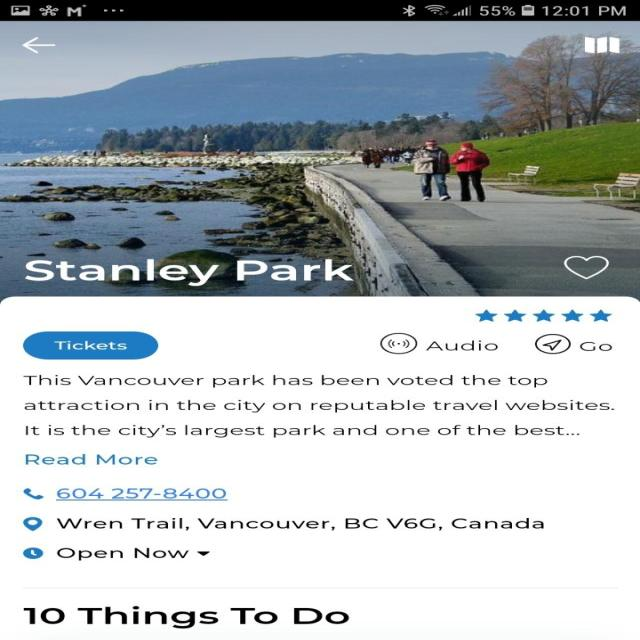Icon: (474, 308, 612, 322), (562, 256, 608, 279), (533, 333, 571, 354), (584, 37, 619, 54), (22, 38, 55, 53), (22, 517, 43, 531), (22, 547, 44, 559), (196, 551, 210, 555)
Image: (0, 21, 639, 297), (379, 333, 417, 354), (23, 488, 44, 498)
Text: (22, 374, 614, 438), (24, 258, 351, 286), (23, 605, 349, 628), (56, 518, 544, 530), (56, 488, 228, 500), (56, 547, 188, 560), (24, 454, 158, 464), (425, 340, 498, 350), (578, 341, 612, 351)
TextButton: (22, 331, 158, 360)
